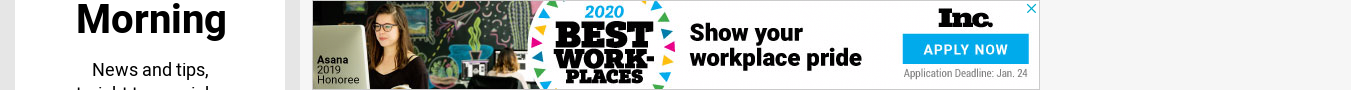fake_button: (889, 32, 1035, 71)
